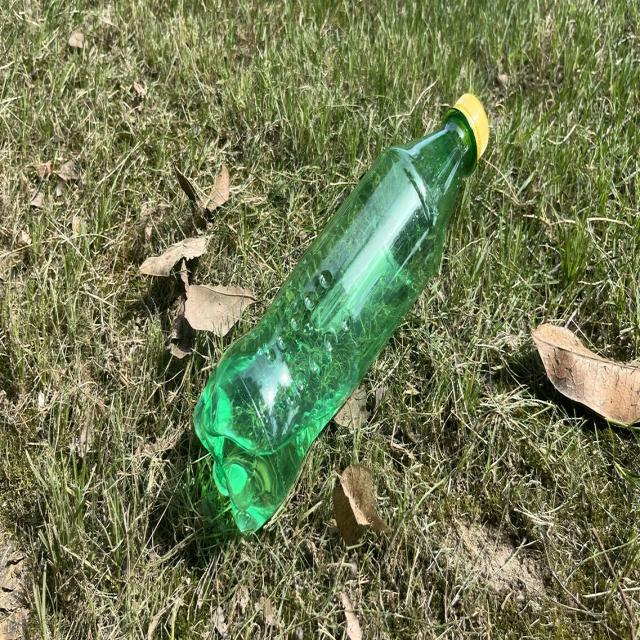low: (194, 94, 488, 530)
